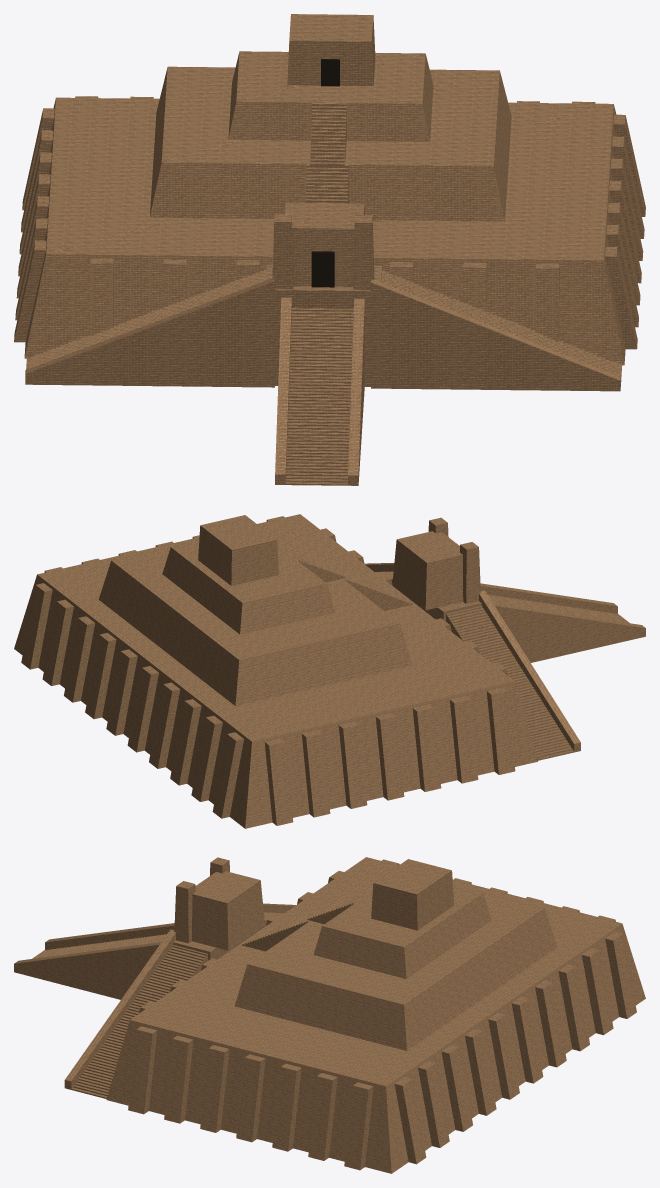
3 views of the same model, one above another, from view 1: azimuth 30°, elevation 25°; view 2: azimuth 150°, elevation 25°; view 3: azimuth 270°, elevation 25° (orthographic). The views are drawn at different scales.
Parts seen in each view (by area): view 1: ziggurat_baked_brick, doorways; view 2: ziggurat_baked_brick; view 3: ziggurat_baked_brick.
Boxes of the visible parts, left/top/right/bottom form: ziggurat_baked_brick: left=14, top=14, right=645, bottom=485; doorways: left=311, top=59, right=339, bottom=287; ziggurat_baked_brick: left=14, top=514, right=645, bottom=828; ziggurat_baked_brick: left=14, top=857, right=645, bottom=1173.
Size of the model in its own units: 78.89 by 25.8 by 81.18.
2 materials, 1 textured.
